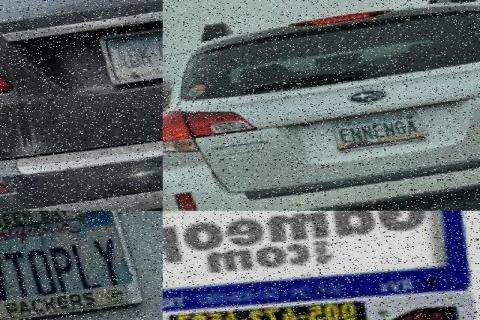LicensePlate: (162, 211, 448, 304), (0, 210, 154, 319), (163, 296, 479, 320), (330, 108, 430, 151), (99, 26, 161, 85)
